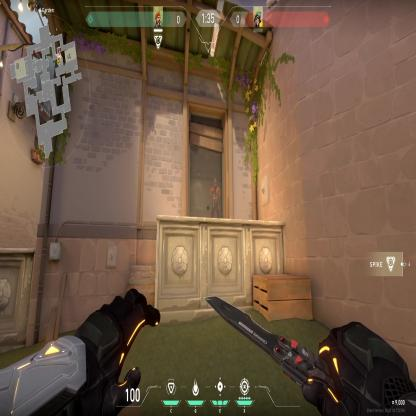enemy: (210, 176, 220, 219)
